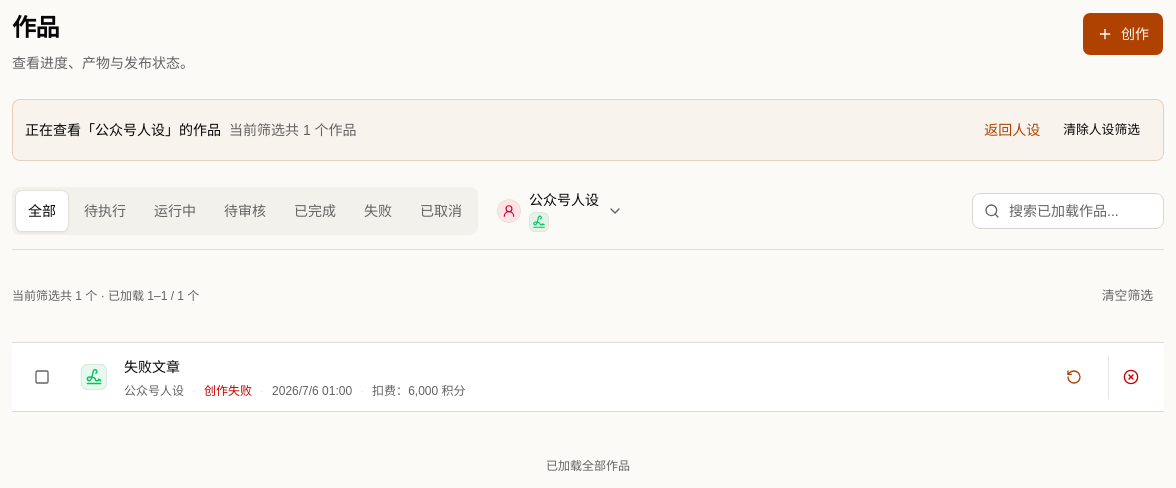
Test: TasksPage URL-driven recovery filters › initializes and clears the persona filter from the URL
Expected: the text "正在查看「公众号人设」的作品" is shown, [25,120,357,140]
Click the button "清除人设筛选" at (1102, 130), box [1052,108,1151,152]
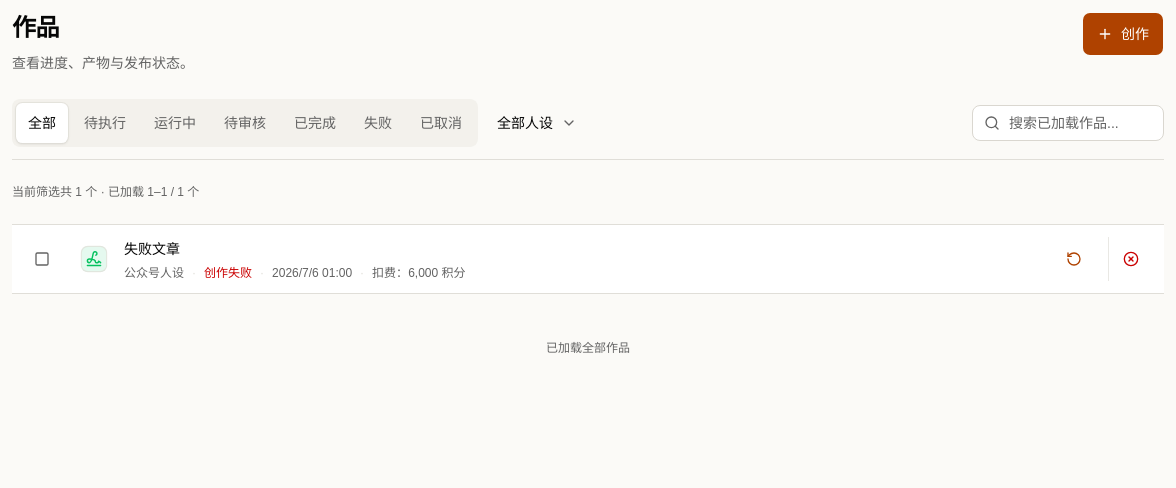
Expected: the text "正在查看「公众号人设」的作品" is gone
